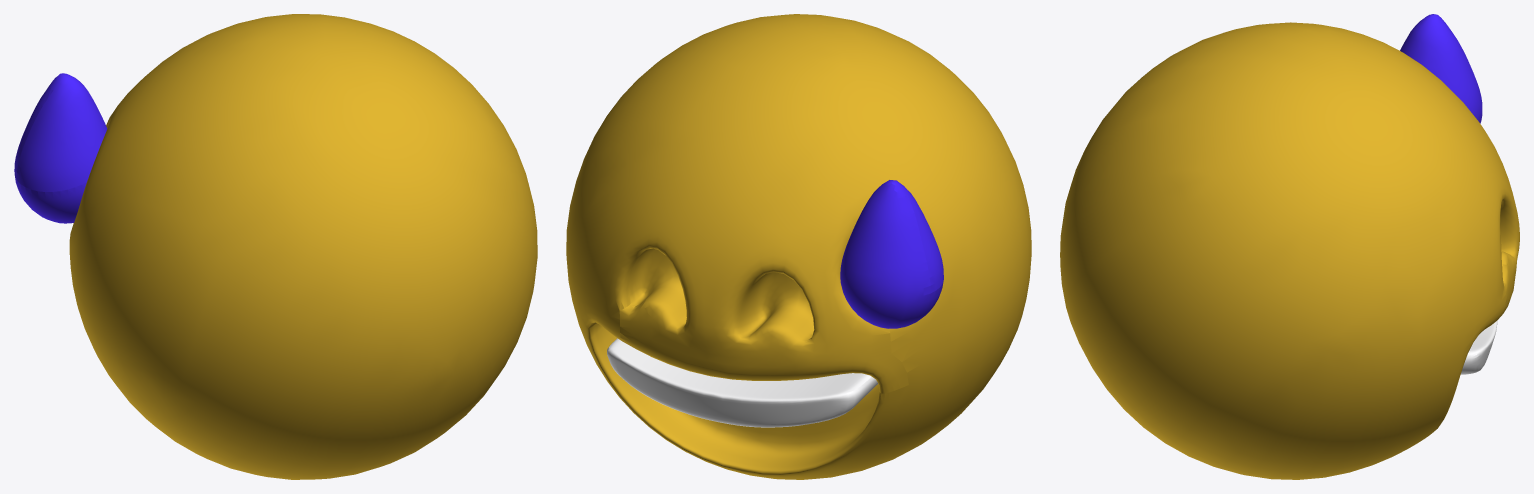
Rendered from sweet smile 3DS.glb.
3 views of the same model, side by side, from view 1: azimuth 30°, elevation 25°; view 2: azimuth 150°, elevation 25°; view 3: azimuth 270°, elevation 25° (orthographic).
Visible parts, largest first — view 1: Group1201, Group3252; view 2: Group1201, Group41602, Group3252; view 3: Group1201, Group3252, Group41602.
Boxes of the visible parts, x1,y1,x2,y2 form: Group1201: (69,14,537,479); Group3252: (14,73,107,223); Group1201: (566,14,1031,479); Group41602: (607,338,878,427); Group3252: (840,180,943,328); Group1201: (1060,22,1519,479); Group3252: (1400,14,1482,123); Group41602: (1460,321,1497,374).
Bounding box in the file's own units: 0.5409 × 0.5297 × 0.5325.
